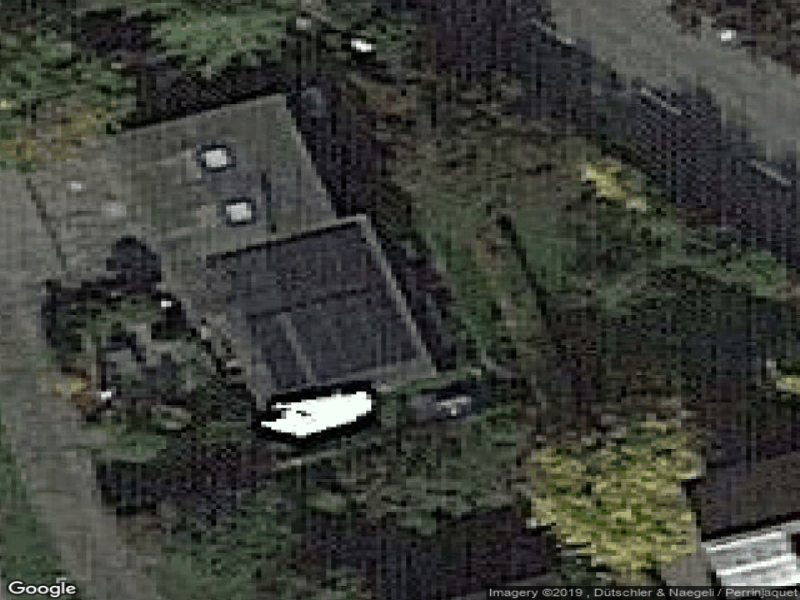pv: (223, 227, 422, 392)
